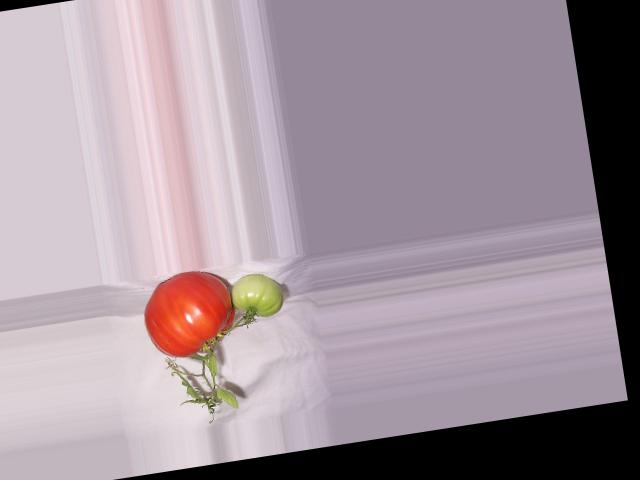tomato: (138, 266, 241, 362)
